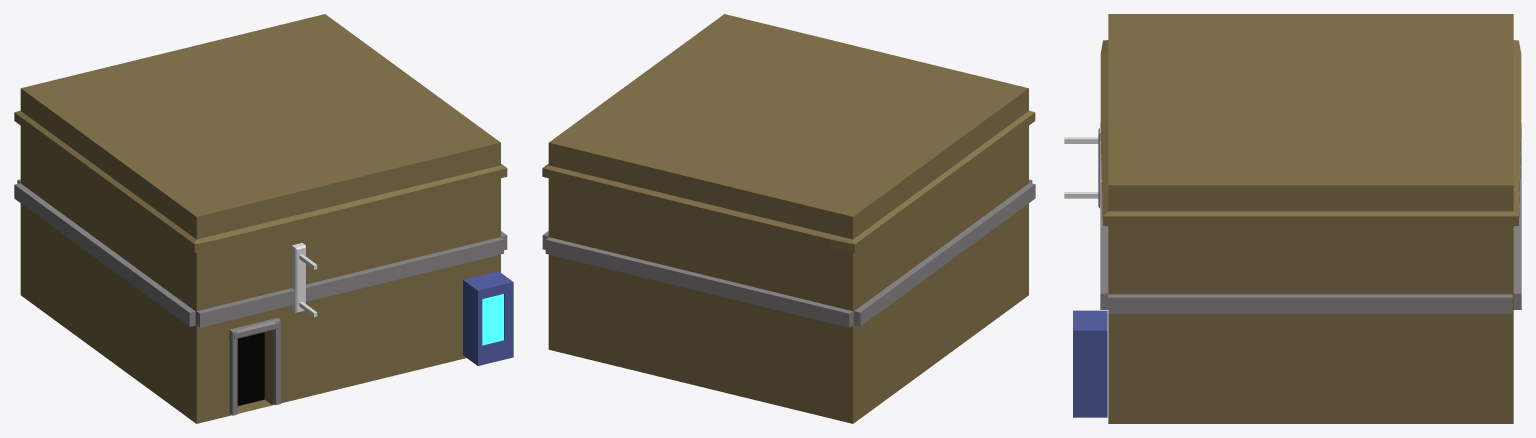
3 views of the same model, side by side, from view 1: azimuth 30°, elevation 25°; view 2: azimuth 150°, elevation 25°; view 3: azimuth 270°, elevation 25° (orthographic). The views are drawn at different scales.
Parts seen in each view (by area): view 1: Cube, Cube.006, Cube.011, Cube.007, Cube.001, Cube.008, Cube.012, Cube.004, Cube.005, Cube.002; view 2: Cube, Cube.009, Cube.011; view 3: Cube, Cube.010, Cube.007, Cube.009, Cube.006.
Part boxes in pixels (bbox=[...]): Cube: bbox=[14, 14, 507, 423]; Cube.006: bbox=[196, 237, 503, 327]; Cube.011: bbox=[14, 183, 195, 326]; Cube.007: bbox=[463, 271, 513, 365]; Cube.001: bbox=[237, 332, 264, 405]; Cube.008: bbox=[482, 294, 503, 345]; Cube.012: bbox=[291, 243, 305, 313]; Cube.004: bbox=[229, 331, 237, 415]; Cube.005: bbox=[272, 320, 280, 404]; Cube.002: bbox=[229, 318, 279, 340]; Cube: bbox=[542, 14, 1035, 423]; Cube.009: bbox=[545, 237, 852, 327]; Cube.011: bbox=[854, 183, 1035, 326]; Cube: bbox=[1100, 14, 1521, 423]; Cube.010: bbox=[1108, 294, 1512, 313]; Cube.007: bbox=[1073, 310, 1107, 417]; Cube.009: bbox=[1513, 123, 1521, 309]; Cube.006: bbox=[1100, 123, 1108, 309].
Size of what is drawn, in the model's own units: 13 by 8.1 by 14.07.
